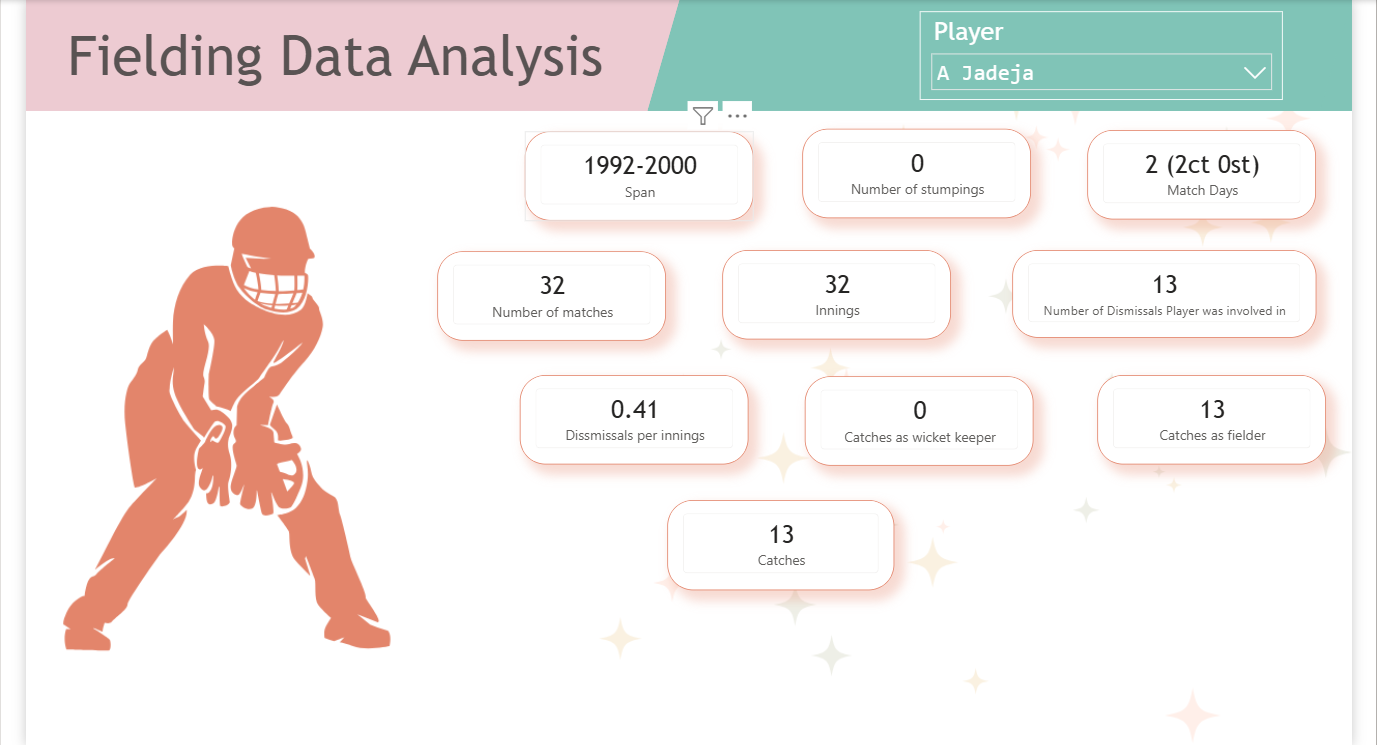

Layout of this report page (visuals, bound fields, positions):
{"tool":"powerbi","page":{"name":"Fielding","canvas":[1280,720],"ordinal":2},"visuals":[{"type":"shape","box":[0,0,640,107.1],"z":0},{"type":"shape","box":[1084.5,0,195.5,107.1],"z":1000},{"type":"shape","box":[599.8,0,680.2,107.1],"z":2000},{"type":"slicer","fields":{"Values":["Fielding Table.Player"]},"box":[862.3,10.7,350.8,85.7],"z":3000},{"type":"cardVisual","fields":{"Data":["Min(Fielding Table.Span)"]},"box":[481.7,127.1,221,86],"z":4000},{"type":"cardVisual","fields":{"Data":["Sum(Fielding Table.St)"]},"box":[749.1,124.7,221,86],"z":5000},{"type":"cardVisual","fields":{"Data":["Min(Fielding Table.MD)"]},"box":[1024.2,125.9,221,86],"z":6000},{"type":"cardVisual","fields":{"Data":["Sum(Fielding Table.Mat)"]},"box":[396.6,242,221,86],"z":7000},{"type":"cardVisual","fields":{"Data":["Sum(Fielding Table.Inns)"]},"box":[671.8,241.5,221,86],"z":8000},{"type":"cardVisual","fields":{"Data":["Sum(Fielding Table.Dis)"]},"box":[951.7,241.7,293.3,85],"z":9000},{"type":"cardVisual","fields":{"Data":["Sum(Fielding Table.D/I)"]},"box":[476.6,362,221,86],"z":10000},{"type":"cardVisual","fields":{"Data":["Sum(Fielding Table.Ct Wk)"]},"box":[751.7,362.6,221,86],"z":11000},{"type":"cardVisual","fields":{"Data":["Sum(Fielding Table.Ct Fi)"]},"box":[1034,361.4,221,86],"z":12000},{"type":"cardVisual","fields":{"Data":["Sum(Fielding Table.Ct)"]},"box":[618.9,482.6,219.6,86.9],"z":13000}]}

Visuals, with their boxes on the page's 1280x720 design canvas (x1, y1, x2, y2). These are canvas units, not pixel positions in the 1377x745 screenshot, which may show the page scaled, cropped or inside an application window:
shape: 0/0/640/107
shape: 1084/0/1280/107
shape: 600/0/1280/107
slicer - Fielding Table.Player: 862/11/1213/96
cardVisual - Min(Fielding Table.Span): 482/127/703/213
cardVisual - Sum(Fielding Table.St): 749/125/970/211
cardVisual - Min(Fielding Table.MD): 1024/126/1245/212
cardVisual - Sum(Fielding Table.Mat): 397/242/618/328
cardVisual - Sum(Fielding Table.Inns): 672/242/893/328
cardVisual - Sum(Fielding Table.Dis): 952/242/1245/327
cardVisual - Sum(Fielding Table.D/I): 477/362/698/448
cardVisual - Sum(Fielding Table.Ct Wk): 752/363/973/449
cardVisual - Sum(Fielding Table.Ct Fi): 1034/361/1255/447
cardVisual - Sum(Fielding Table.Ct): 619/483/838/570
